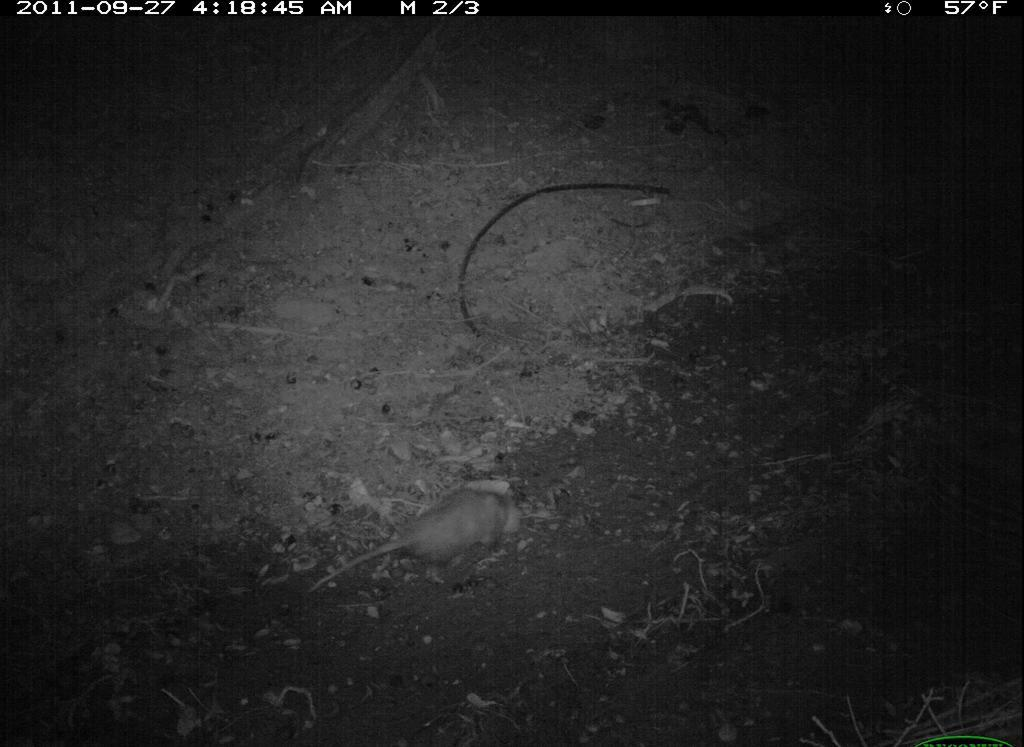opossum: (314, 479, 528, 603)
